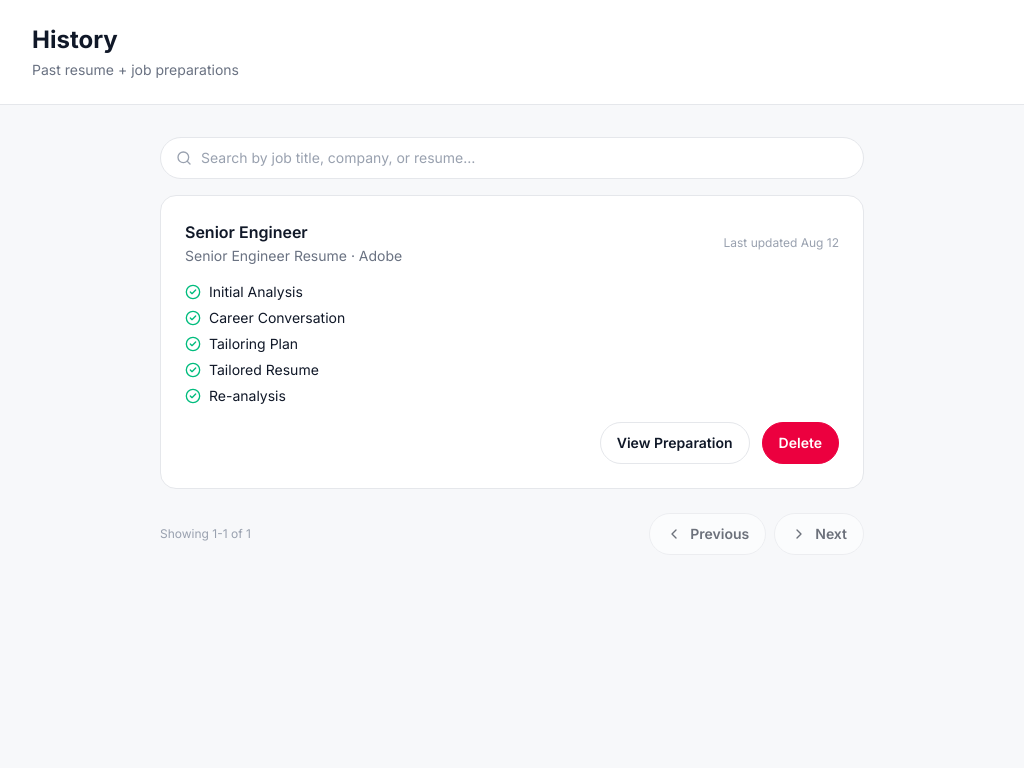
Test: HistoryPage › never claims a checkpoint is complete for a section with no persisted payload
The width and height of the screenshot is (1024, 768).
Check: the heading "Senior Engineer" is shown, box [185,222,308,242]
Click the button "View Preparation" at (675, 443), box [600,422,750,464]
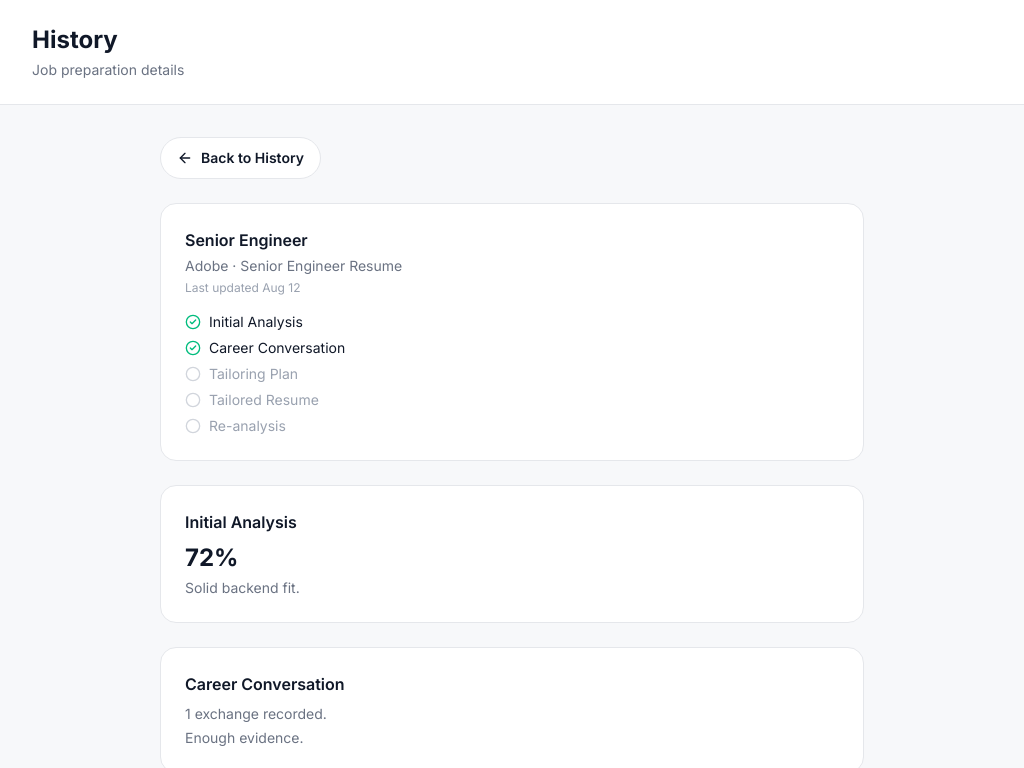
Check: the text "72%" is shown, box [185,543,238,572]
